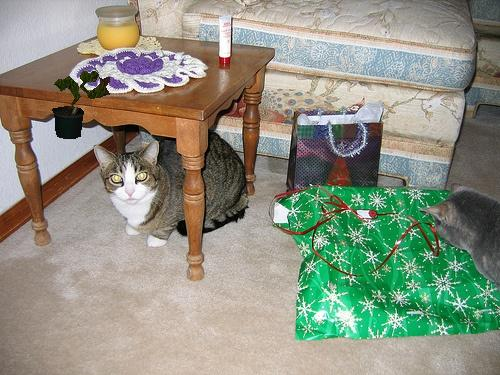tampered: (53, 72, 110, 139)
